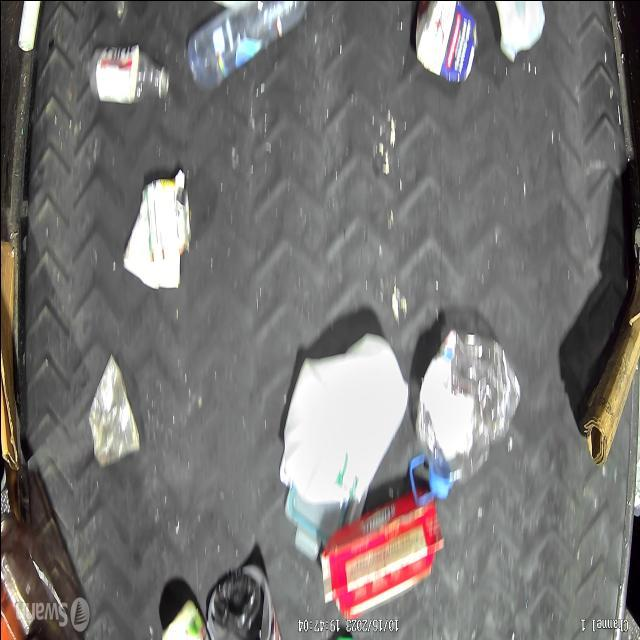can: (141, 176, 191, 262)
milk_jug: (281, 331, 407, 504), (494, 0, 544, 62)
plastic_bottle: (414, 328, 520, 498), (186, 0, 311, 92), (86, 46, 168, 106)
